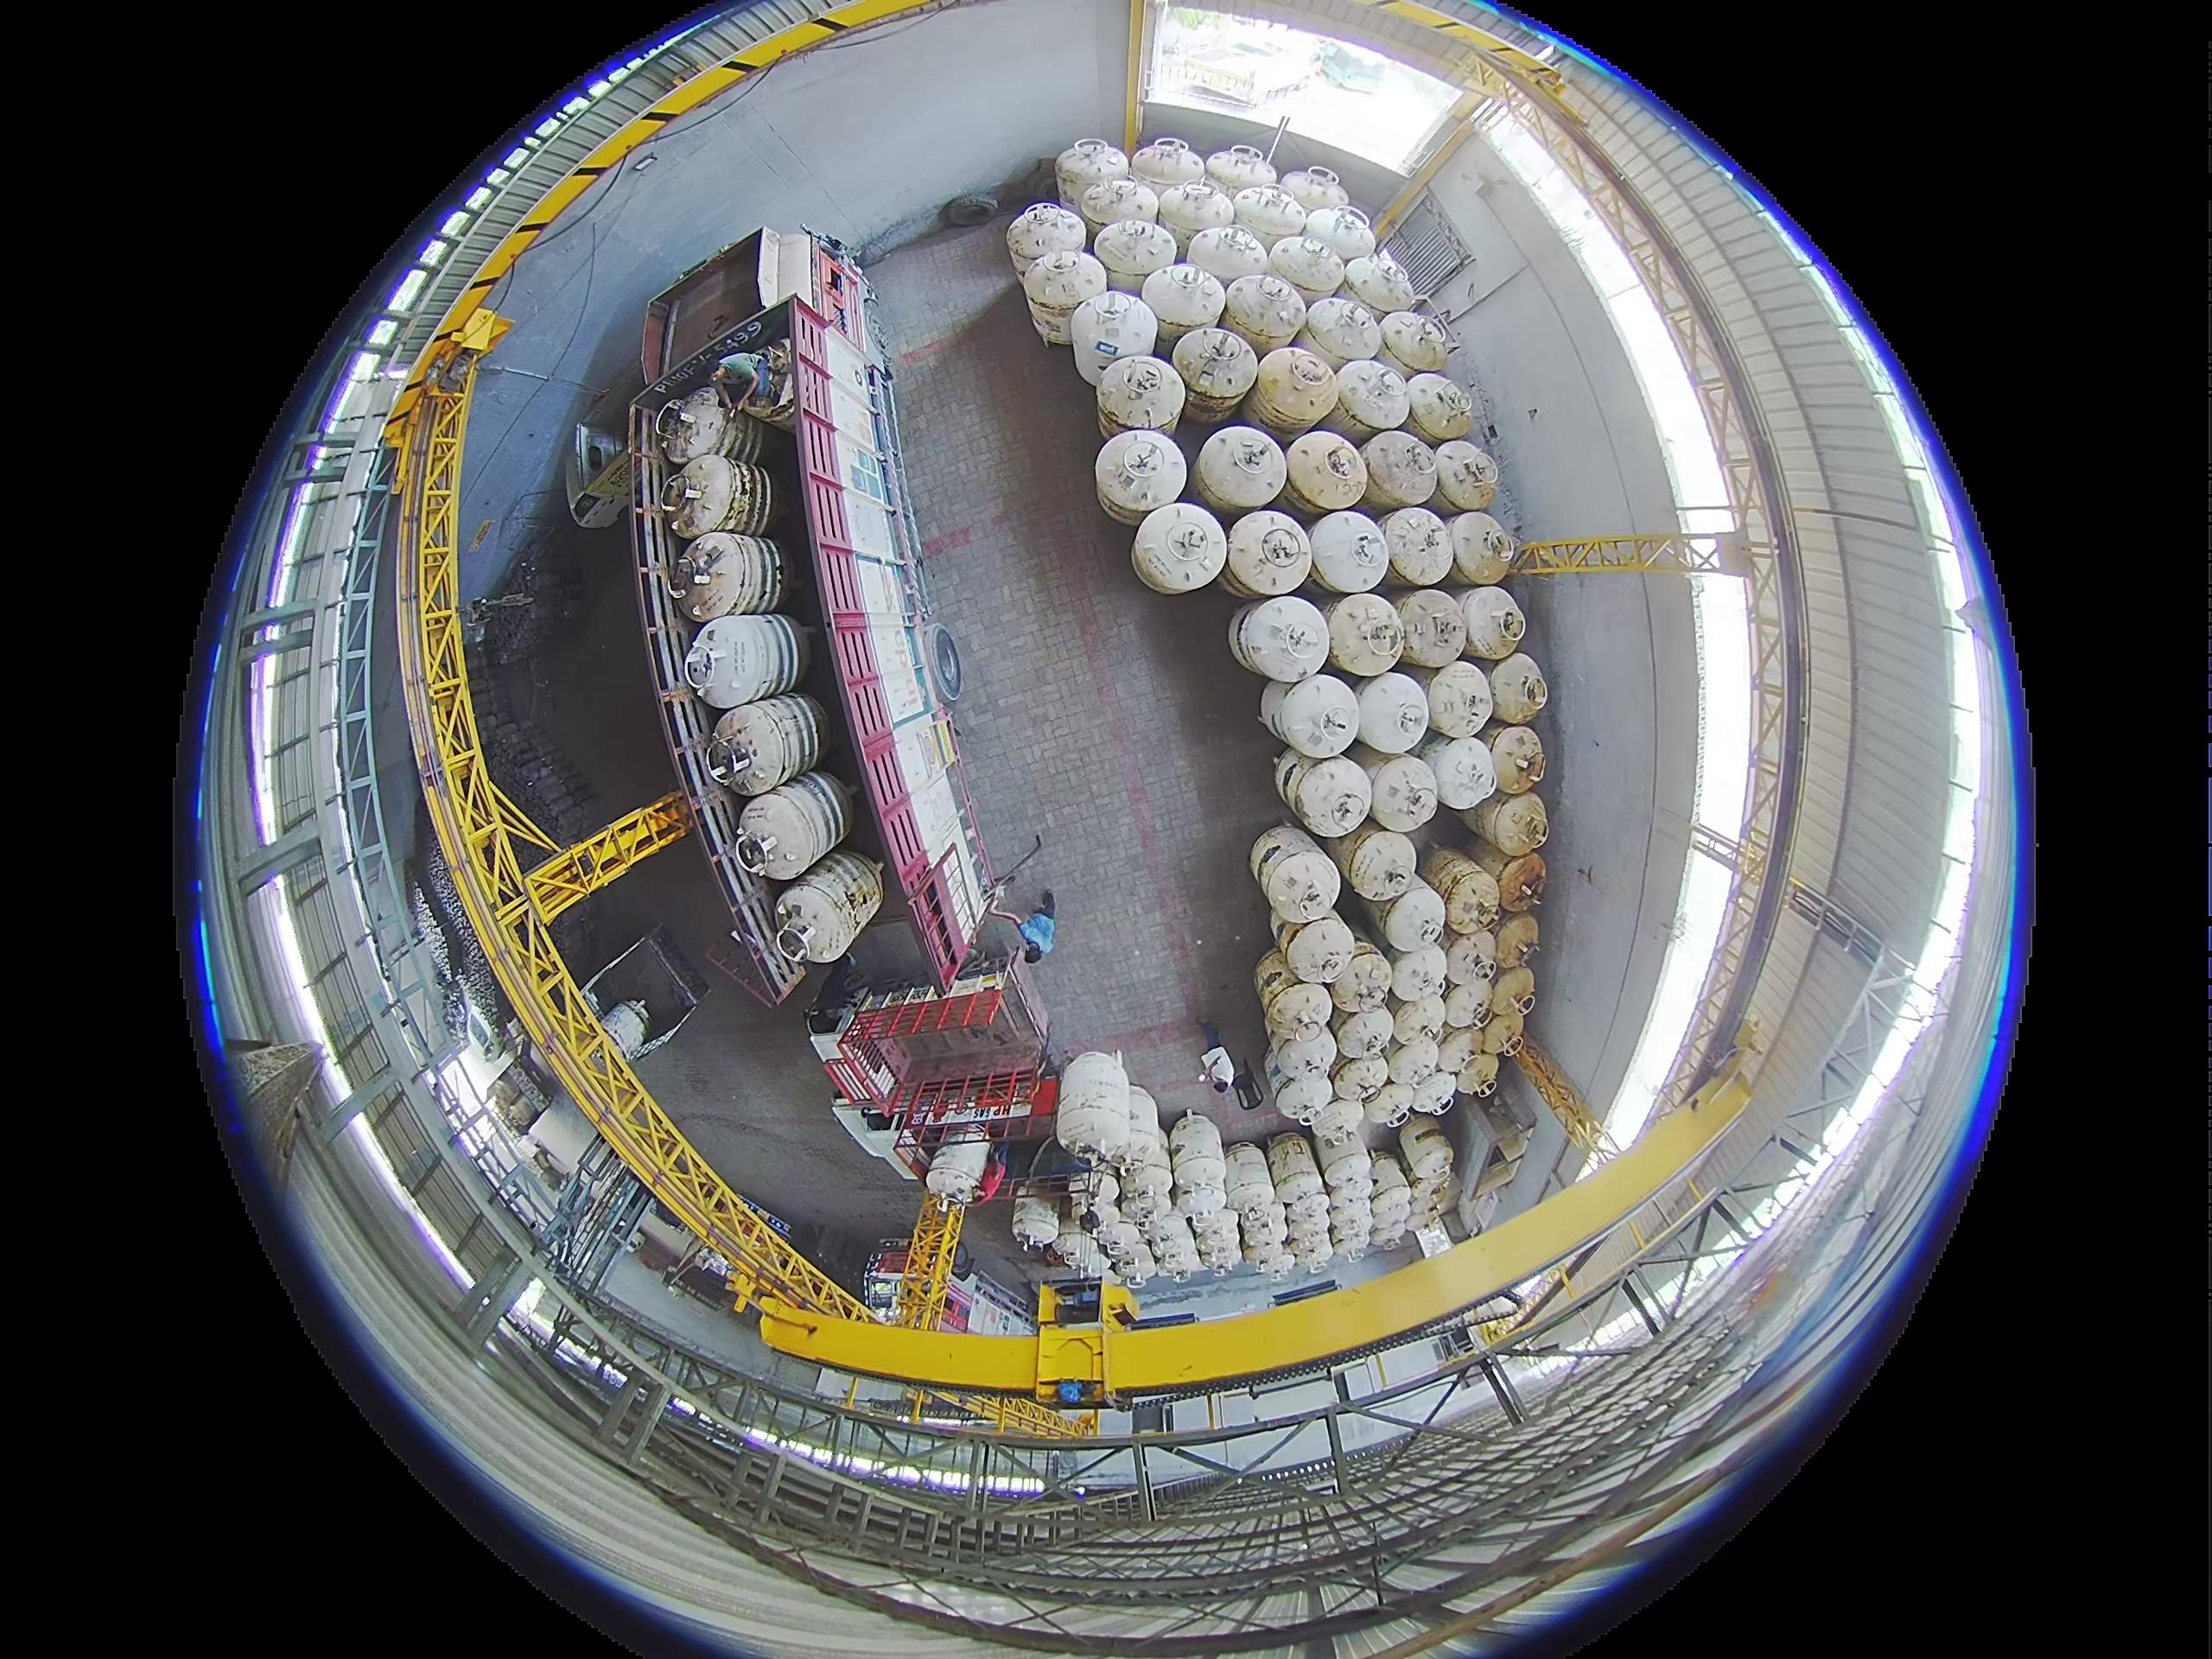cylinder: (689, 529, 804, 662), (1139, 495, 1255, 626), (707, 708, 826, 803), (757, 784, 858, 881), (671, 461, 780, 549), (791, 848, 874, 957), (1094, 429, 1185, 527), (1235, 594, 1332, 684), (1198, 422, 1302, 502), (1249, 822, 1340, 914), (1271, 671, 1363, 761), (1251, 346, 1341, 436), (1171, 325, 1257, 417), (655, 387, 757, 465), (1224, 510, 1312, 597), (1283, 430, 1370, 518), (1070, 291, 1154, 381), (1307, 509, 1393, 596), (1141, 260, 1226, 345), (1221, 271, 1308, 353), (1285, 754, 1374, 835), (1333, 821, 1419, 903), (1324, 593, 1407, 677), (1096, 353, 1180, 435), (1354, 671, 1431, 755), (1362, 429, 1440, 511), (1281, 914, 1363, 991), (1332, 358, 1411, 436), (1302, 296, 1383, 372), (1422, 734, 1498, 814), (1382, 506, 1457, 587), (1394, 588, 1469, 669), (1424, 659, 1497, 741), (1188, 222, 1273, 291), (1365, 753, 1440, 830), (1155, 179, 1234, 251), (1096, 218, 1175, 287), (1421, 849, 1493, 923), (1379, 878, 1449, 954), (1007, 201, 1082, 271), (1082, 176, 1160, 243), (1056, 138, 1129, 209), (1458, 586, 1528, 660), (1267, 232, 1345, 298), (1402, 372, 1471, 445), (1450, 511, 1518, 584), (1379, 310, 1453, 378), (1342, 252, 1419, 315), (1235, 186, 1310, 250), (1301, 205, 1377, 268), (1432, 439, 1499, 510), (1483, 724, 1546, 798), (1129, 137, 1204, 200), (1484, 652, 1548, 724), (1265, 979, 1334, 1044), (741, 349, 798, 427), (1485, 790, 1550, 856), (1329, 947, 1393, 1014), (1205, 143, 1279, 200), (1388, 947, 1449, 1013), (1441, 930, 1501, 996), (1332, 1007, 1395, 1065), (1384, 1037, 1444, 1097), (1020, 291, 1077, 353), (1271, 1069, 1334, 1125), (1396, 1119, 1452, 1182), (1281, 166, 1350, 217), (1272, 1031, 1333, 1087), (594, 1001, 649, 1061), (1271, 748, 1321, 814), (692, 787, 741, 854), (1484, 965, 1535, 1028), (1496, 853, 1548, 913), (1332, 1053, 1390, 1107), (1475, 1007, 1530, 1063), (1441, 979, 1497, 1033), (1254, 950, 1300, 1014), (1363, 1081, 1420, 1131), (1493, 913, 1541, 972), (1259, 677, 1303, 741), (1471, 1148, 1522, 1200), (1436, 1025, 1484, 1076), (1367, 1185, 1414, 1238), (1287, 1220, 1334, 1270), (1367, 1155, 1411, 1208), (1408, 1071, 1457, 1118), (734, 830, 778, 876), (1457, 1051, 1498, 1096), (1422, 1172, 1461, 1217), (1491, 1123, 1533, 1164), (1405, 1194, 1442, 1236), (1472, 1296, 1517, 1325)
truck: (630, 229, 996, 994), (829, 1047, 1141, 1363), (790, 1081, 1197, 1205), (811, 1000, 1062, 1117)
